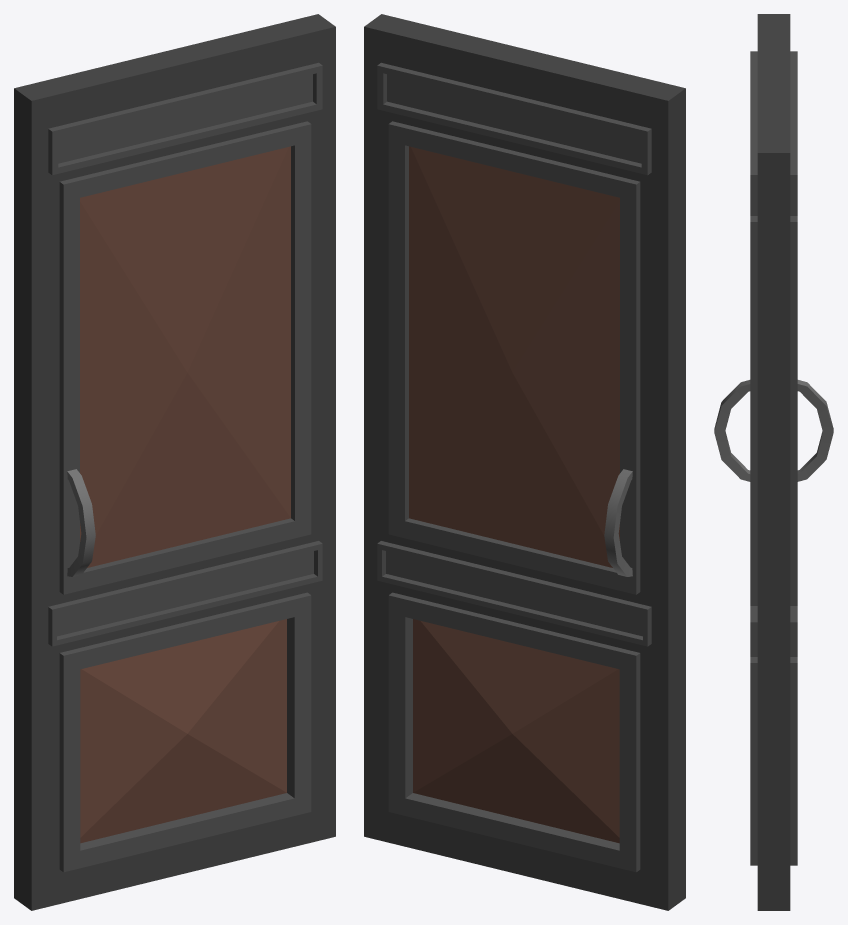
Rendered from SM_Buildings_Office_07_Door_R.fbx.
3 views of the same model, side by side, from view 1: azimuth 30°, elevation 25°; view 2: azimuth 150°, elevation 25°; view 3: azimuth 270°, elevation 25° (orthographic). The views are drawn at different scales.
Visible parts, largest first — view 1: SM_Buildings_Office_07_Door_R; view 2: SM_Buildings_Office_07_Door_R; view 3: SM_Buildings_Office_07_Door_R.
Part boxes in pixels (x1=…): SM_Buildings_Office_07_Door_R: x1=14, y1=14, x2=335, y2=910; SM_Buildings_Office_07_Door_R: x1=364, y1=14, x2=685, y2=910; SM_Buildings_Office_07_Door_R: x1=714, y1=14, x2=833, y2=910.
Size of the model in its own units: 0.8922 by 2.27 by 0.3236.
